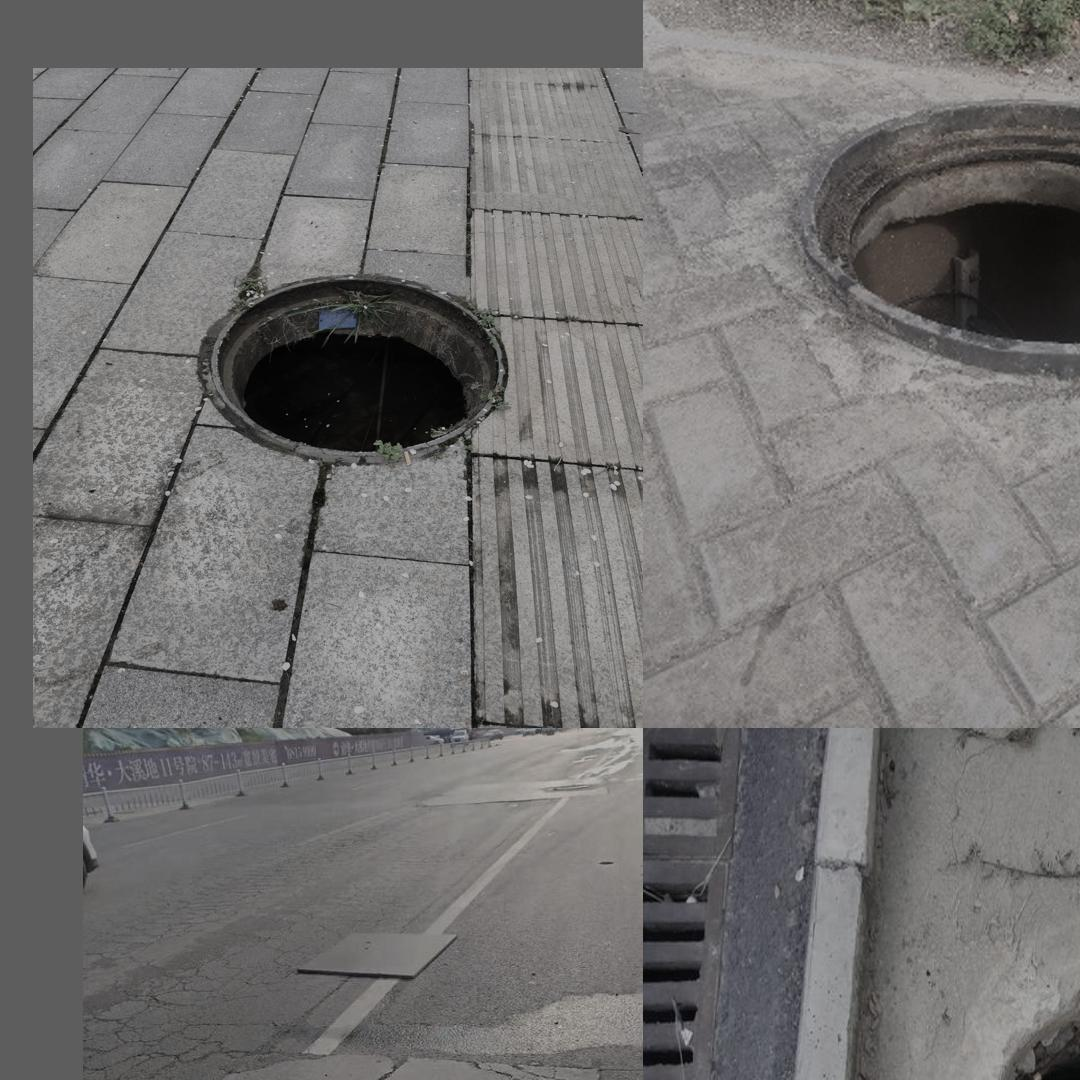lose: (798, 95, 1080, 371), (210, 272, 506, 462), (962, 977, 1080, 1080)
